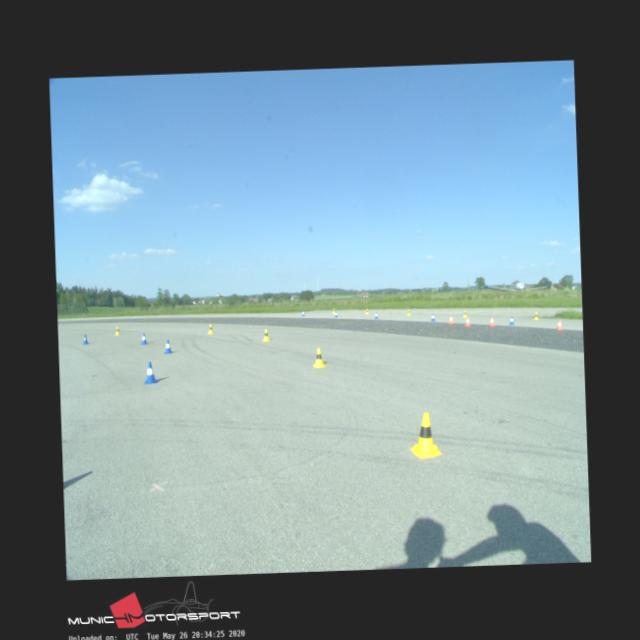blue_cone: (143, 361, 157, 383), (162, 339, 172, 353), (140, 332, 148, 343), (81, 333, 88, 344), (508, 316, 514, 324), (430, 313, 435, 321), (300, 310, 304, 316), (334, 310, 338, 316), (374, 312, 378, 318)
orange_cone: (464, 316, 470, 326), (488, 316, 494, 326), (556, 320, 562, 330), (448, 314, 453, 324)
yellow_cone: (408, 412, 442, 458), (312, 348, 326, 367), (261, 329, 270, 341), (208, 324, 214, 333), (114, 326, 120, 334), (462, 310, 467, 317), (534, 312, 538, 320), (364, 308, 368, 314), (407, 309, 411, 315), (332, 308, 334, 312)
